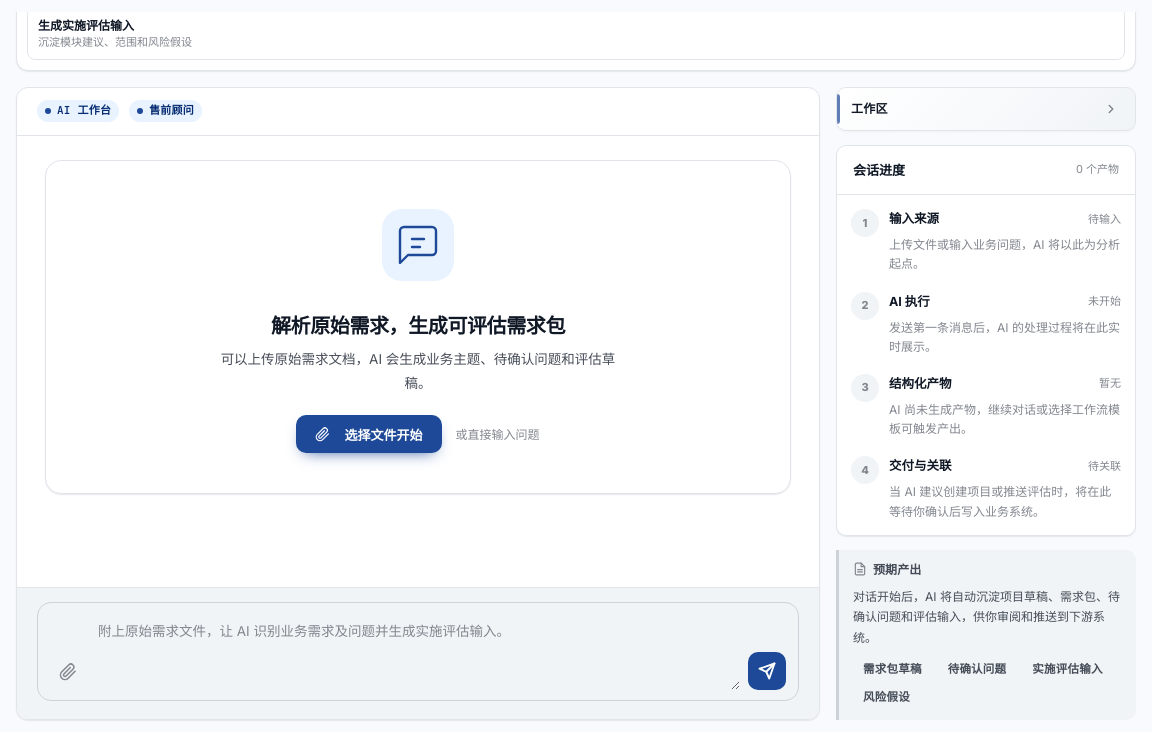
it: draft-roundtrip: E1 草稿往返 › draft-roundtrip: 网络错误后草稿保留且 copyDraft 可取回
(page scrolled)
Type "我的网络问题" into the text box at (417, 652), box x1=94 y1=613 x2=740 y2=690
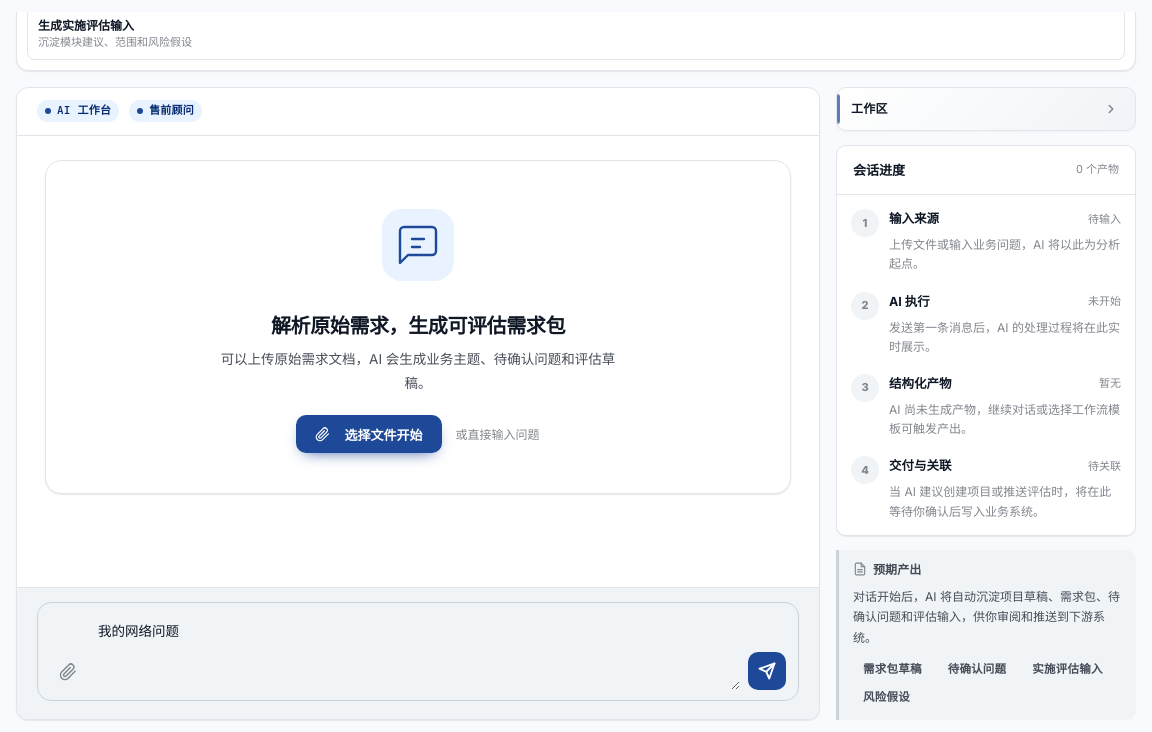
Click the button named "发送消息" at (767, 671), box x1=748 y1=652 x2=786 y2=690
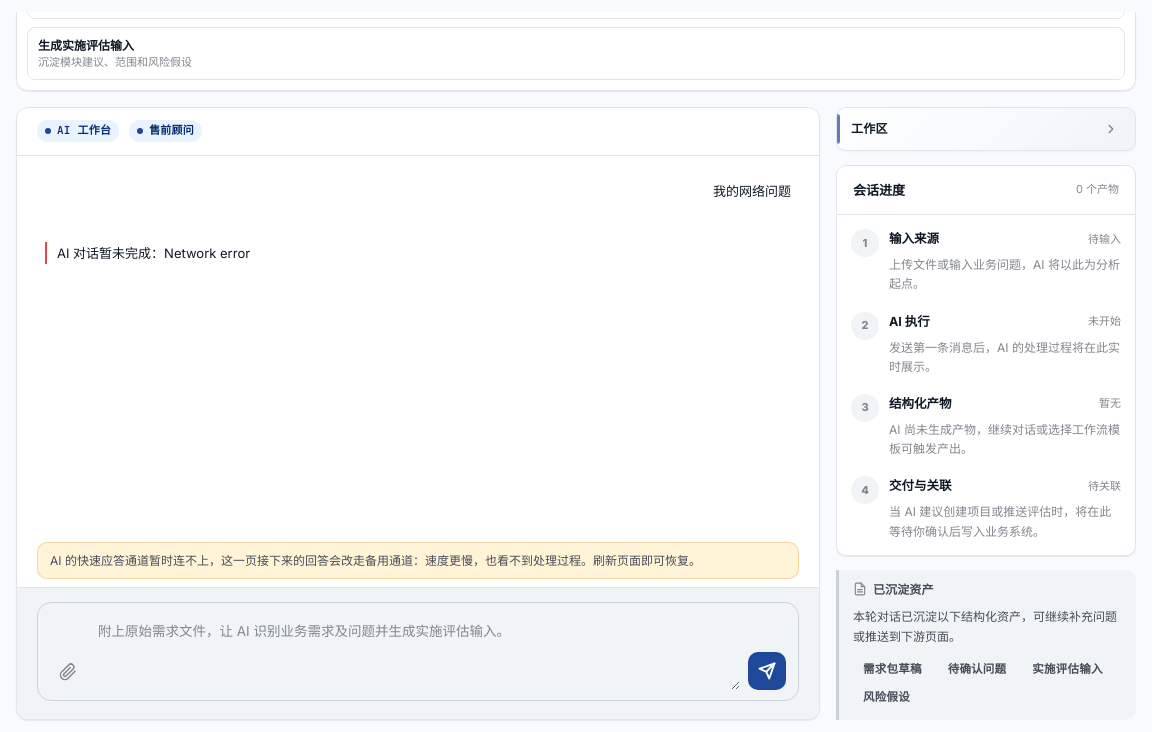
Result: the text "AI 对话暂未完成：Network error" is shown at x1=57 y1=242 x2=250 y2=264
Result: the text "我的网络问题" is shown at x1=713 y1=182 x2=791 y2=198
